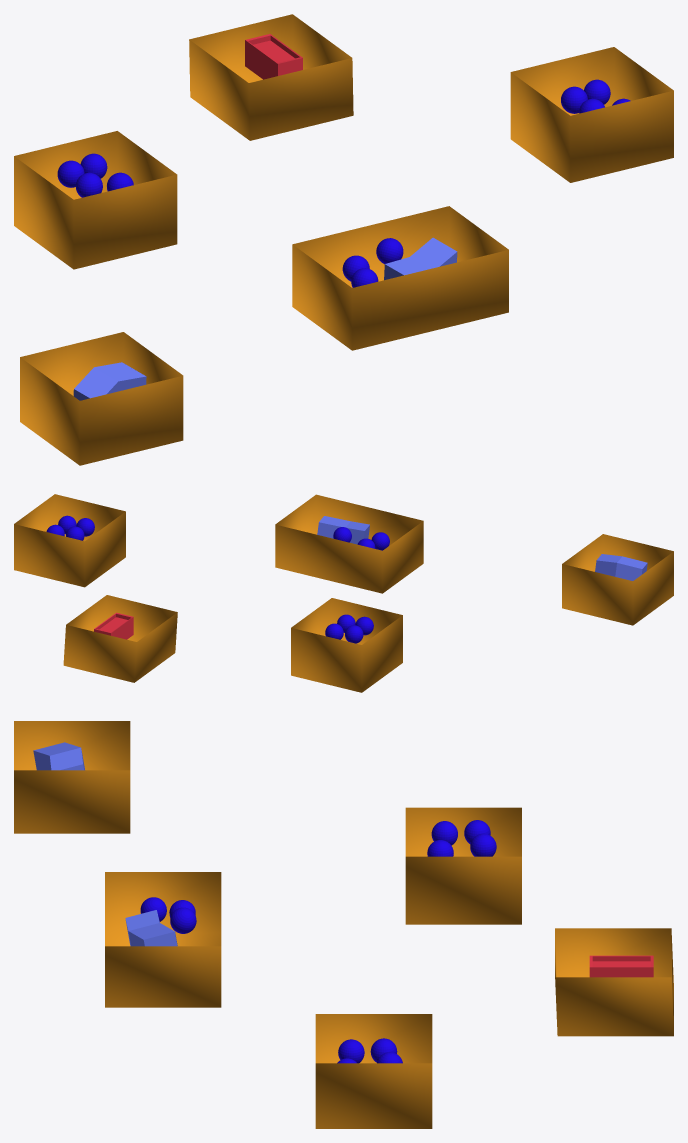
The model's file is teste.glb.
The picture shows the model from 3 angles, top to bottom: view 1: azimuth 30°, elevation 25°; view 2: azimuth 150°, elevation 25°; view 3: azimuth 270°, elevation 25°; orthographic projection. The views are drawn at different scales.
Visible parts, largest first — view 1: Cube.003, Cube.002, Cube, Cube.001, Cube.004, Cube.007, Cube.006, Cube.005; view 2: Cube.003, Cube, Cube.002, Cube.001, Cube.004, Cube.006, Cube.005, Cube.007; view 3: Cube.003, Cube.002, Cube, Cube.001, Cube.004, Cube.007, Cube.005, Cube.006.
Boxes of the visible parts, bbox=[...] form: Cube.003: bbox=[292, 206, 508, 350]; Cube.002: bbox=[510, 47, 673, 182]; Cube: bbox=[14, 131, 177, 269]; Cube.001: bbox=[20, 332, 183, 465]; Cube.004: bbox=[189, 14, 353, 140]; Cube.007: bbox=[245, 34, 302, 79]; Cube.006: bbox=[73, 362, 146, 400]; Cube.005: bbox=[384, 237, 457, 280]; Cube.003: bbox=[275, 494, 423, 593]; Cube: bbox=[291, 598, 402, 692]; Cube.002: bbox=[14, 494, 125, 587]; Cube.001: bbox=[562, 534, 673, 625]; Cube.004: bbox=[63, 595, 177, 682]; Cube.006: bbox=[595, 554, 647, 580]; Cube.005: bbox=[317, 516, 369, 544]; Cube.007: bbox=[94, 612, 133, 639]; Cube.003: bbox=[105, 872, 221, 1007]; Cube.002: bbox=[315, 1014, 432, 1128]; Cube: bbox=[405, 807, 521, 924]; Cube.001: bbox=[14, 721, 130, 833]; Cube.004: bbox=[555, 928, 673, 1036]; Cube.007: bbox=[589, 955, 653, 977]; Cube.005: bbox=[125, 910, 177, 946]; Cube.006: bbox=[33, 742, 84, 770].
Size of the model in its own units: 14.47 by 1.46 by 11.34.
